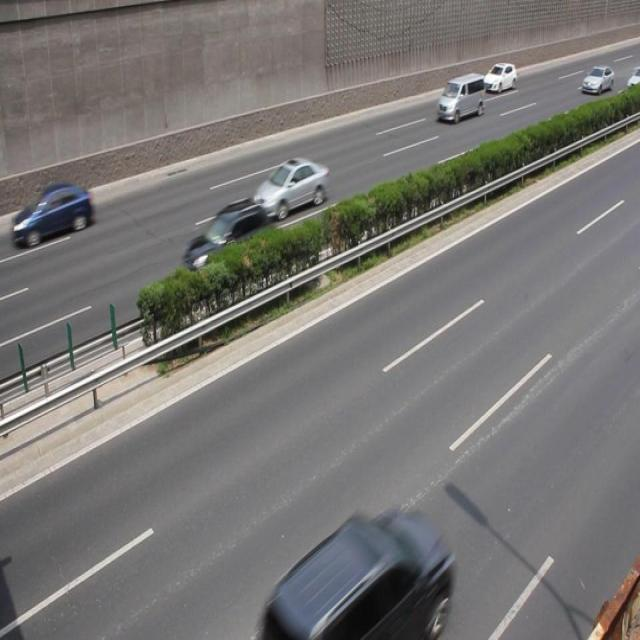car: (272, 509, 448, 634), (179, 200, 274, 287), (252, 154, 329, 218), (24, 185, 93, 242), (482, 62, 515, 94), (580, 63, 612, 96)
truck: (437, 73, 484, 123)
